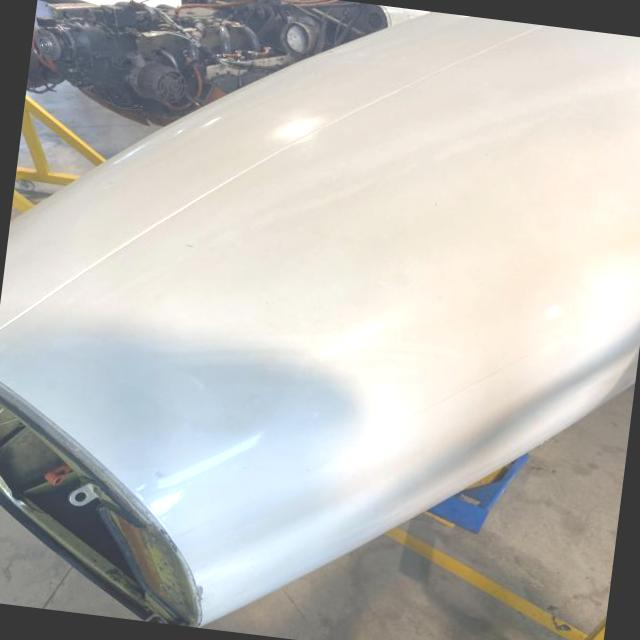Missing Fastener: (58, 482, 98, 510), (135, 604, 167, 624)
